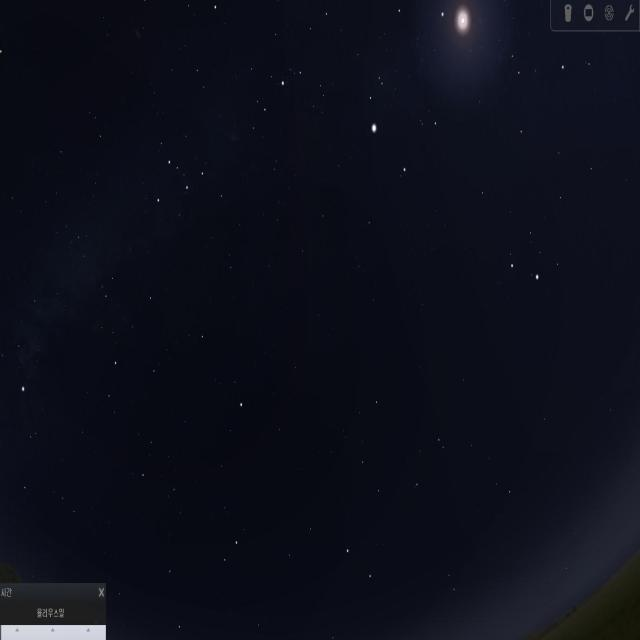cassiopeia: (145, 135, 230, 253)
moon: (440, 0, 492, 69)
